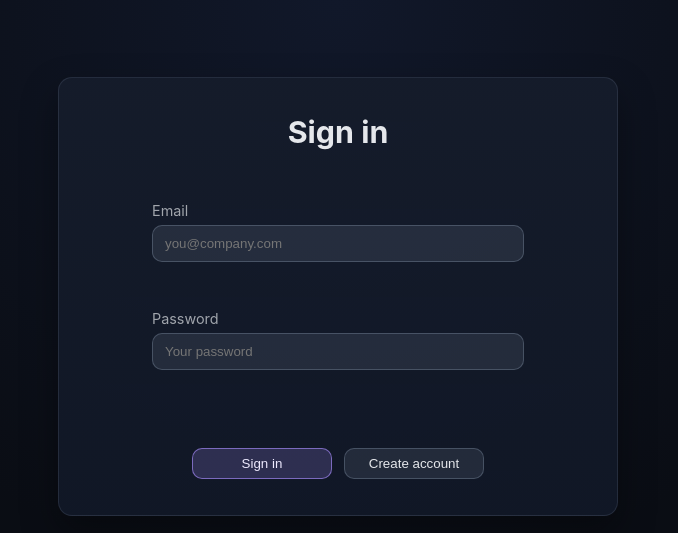
Scenario: Login › clears only the edited field error
Click the button "Sign in" at (262, 464), box [192,448,332,479]
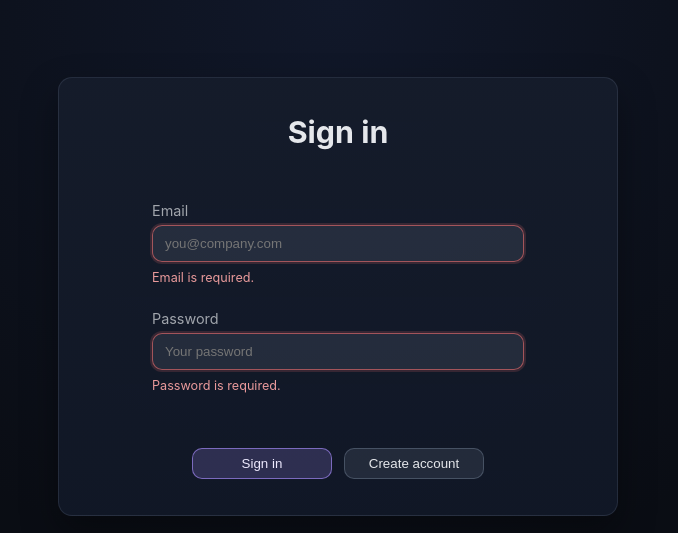
Type "test@example.com" into the field labelled "Email" at (338, 244), box [152,225,524,262]
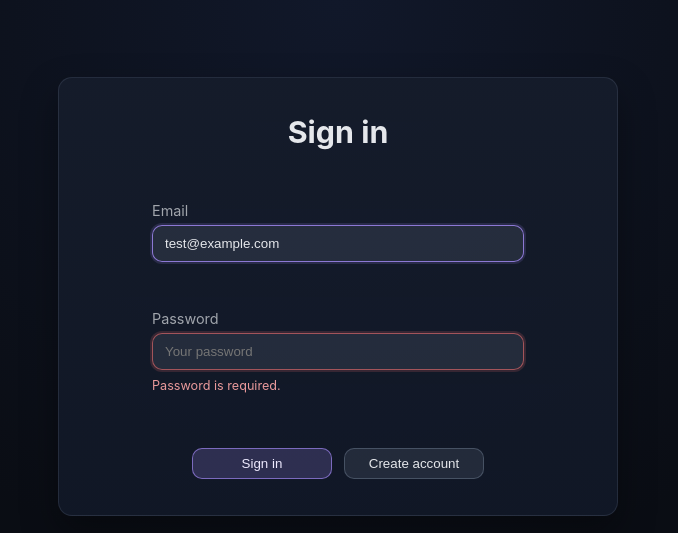
Check: the text "Password is required." is shown, box [152,378,281,393]
Check: the text "Email is required." is gone
